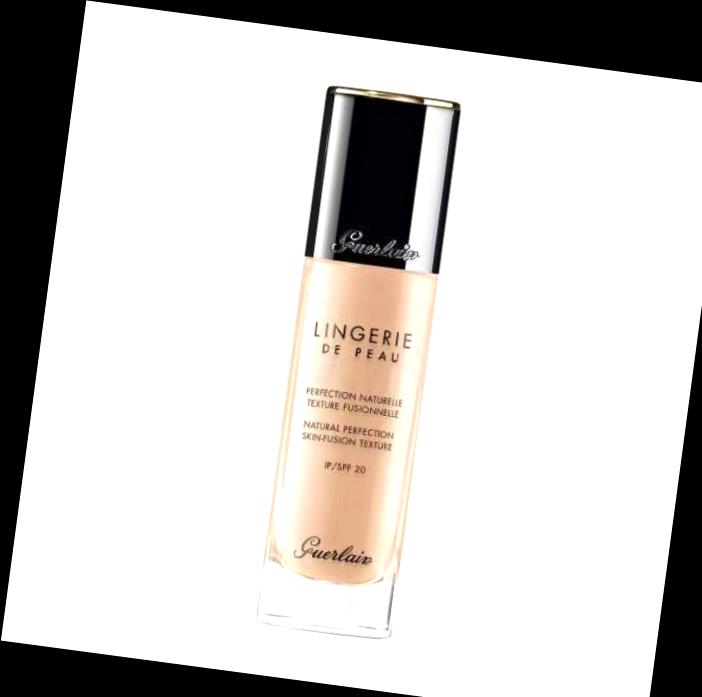cosmetic: (255, 82, 466, 638)
